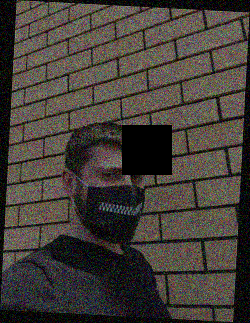with_mask: (84, 158, 146, 243)
